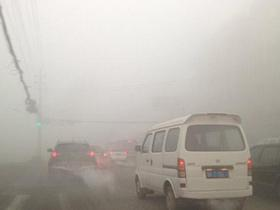car: (133, 112, 253, 210), (230, 139, 280, 197), (45, 142, 98, 184)
